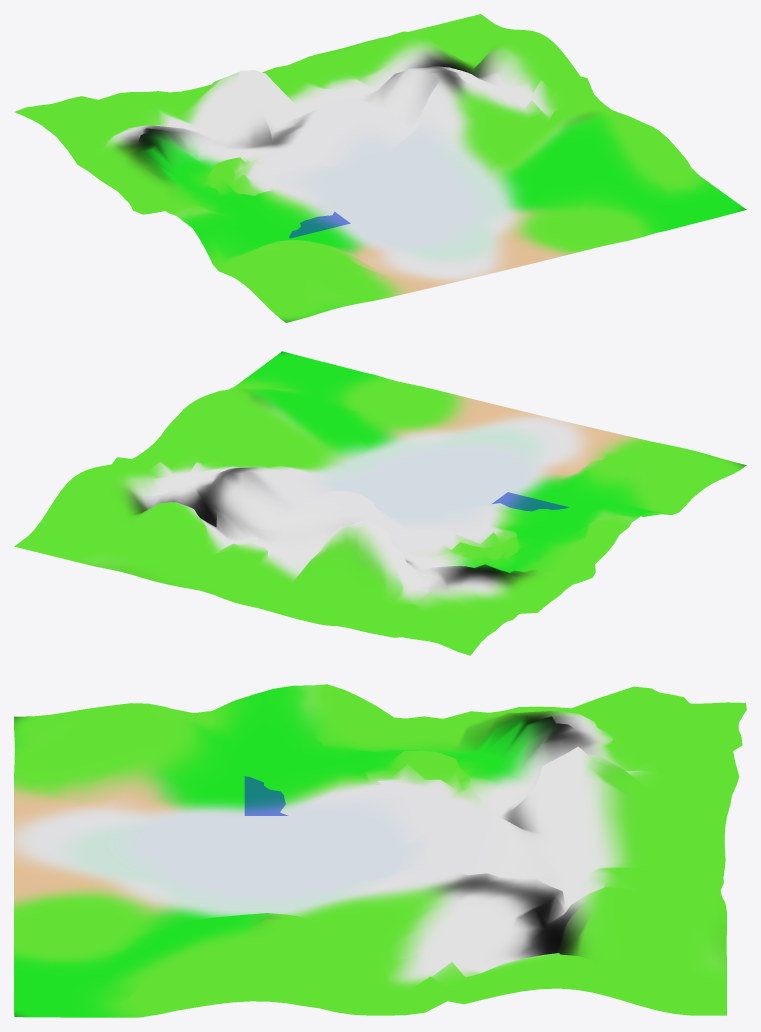
The picture shows the model from 3 angles, top to bottom: view 1: azimuth 30°, elevation 25°; view 2: azimuth 150°, elevation 25°; view 3: azimuth 270°, elevation 25°; orthographic projection. The views are drawn at different scales.
Parts seen in each view (by area): view 1: Grid, Plane; view 2: Grid, Plane; view 3: Grid, Plane.
Boxes of the visible parts, <box> form: Grid: <box>14,14,746,322</box>; Plane: <box>289,212,350,238</box>; Grid: <box>14,351,746,655</box>; Plane: <box>492,492,568,511</box>; Grid: <box>14,684,746,1017</box>; Plane: <box>244,776,287,815</box>.
Bounding box in the file's own units: 101 × 12.56 × 103.
2 materials, 1 textured.
